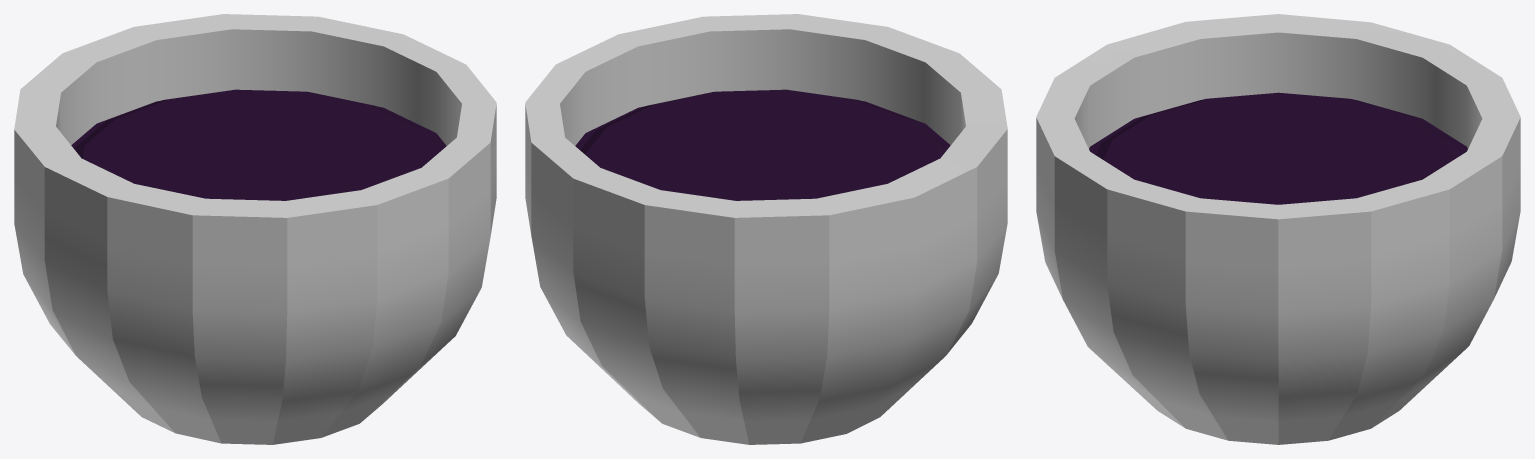
The model's file is Barnilla.fbx.
3 views of the same model, side by side, from view 1: azimuth 30°, elevation 25°; view 2: azimuth 150°, elevation 25°; view 3: azimuth 270°, elevation 25° (orthographic).
Parts seen in each view (by area): view 1: Cylinder021; view 2: Cylinder021; view 3: Cylinder021.
Boxes of the visible parts, x1,y1,x2,y2 form: Cylinder021: (14,14,496,444); Cylinder021: (525,14,1007,444); Cylinder021: (1036,14,1520,444).
Size of the model in its own units: 40 by 24.89 by 40.
